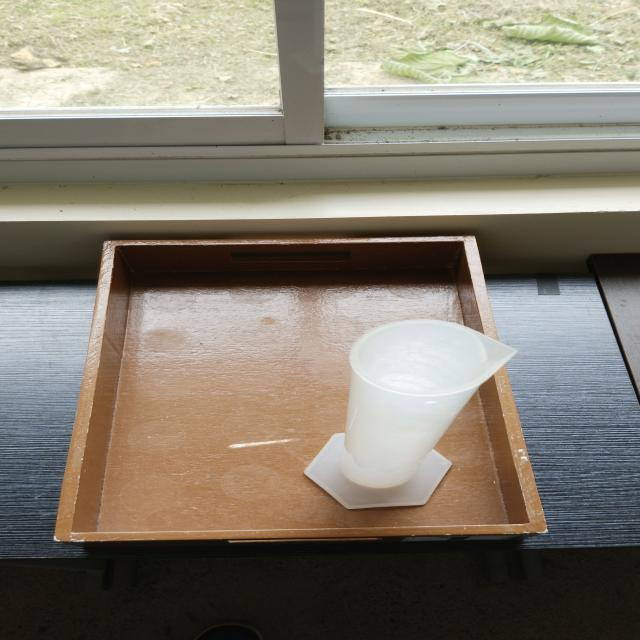graduated_cylinder: (302, 318, 520, 522)
